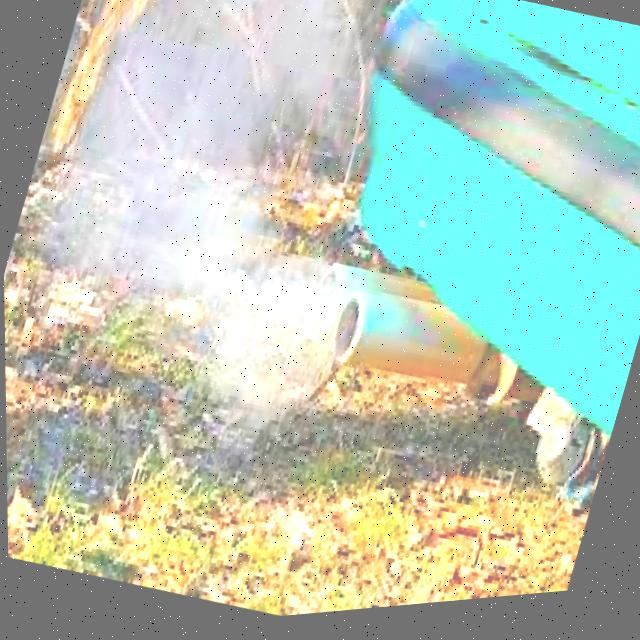Smoke: (31, 0, 467, 436)
